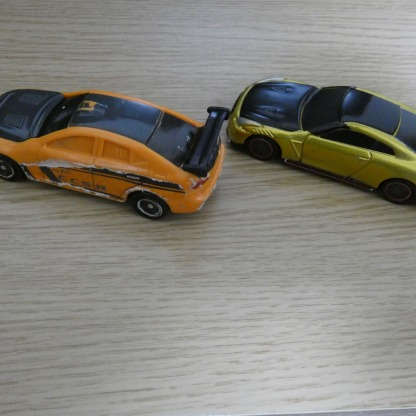car: (0, 86, 230, 223), (229, 61, 416, 210)
